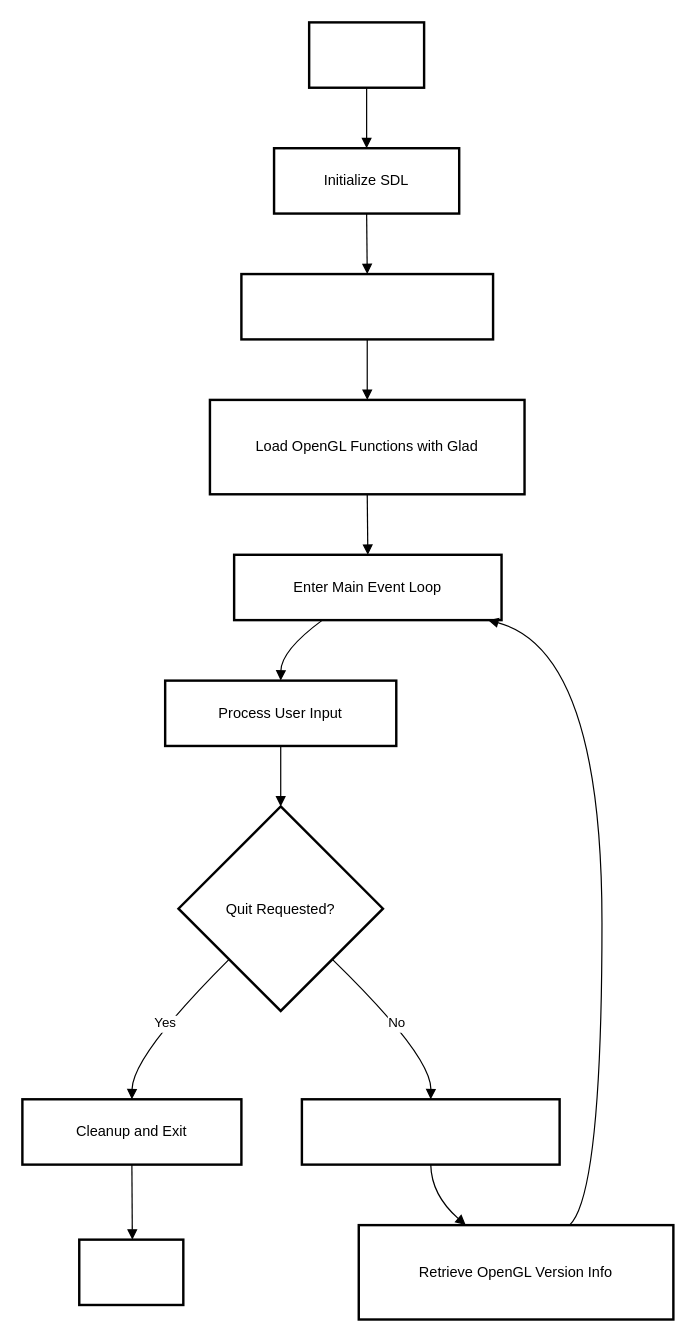
The diagram is 695 pixels wide and 1341 high, and some of its shapes have lost their labels. Here are the shapes that lost their labels. From the top down, the centre of each, then its label:
(x=366, y=54): Start
(x=367, y=306): Create SDL2 Window
(x=430, y=1131): Swap OpenGL Buffers
(x=130, y=1272): End
